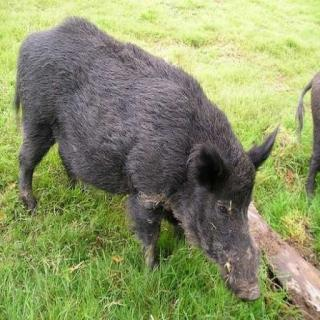Pig: (1, 17, 283, 294)
